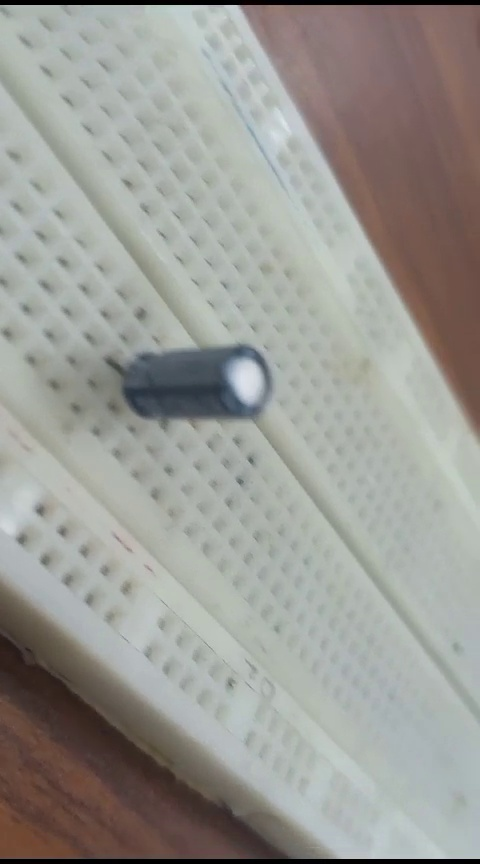capacitor: (88, 313, 282, 437)
